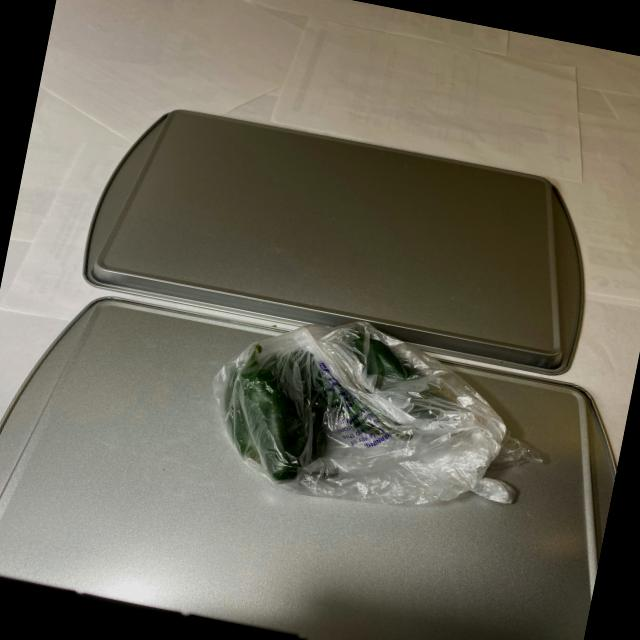chilli: (203, 303, 447, 511)
